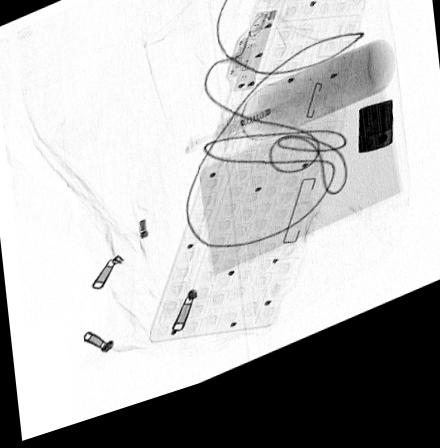Lighter: (357, 124, 392, 176)
